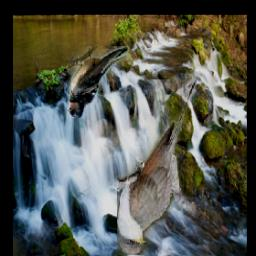Cuckoo: (118, 79, 197, 255)
Swallow: (68, 47, 144, 119)
